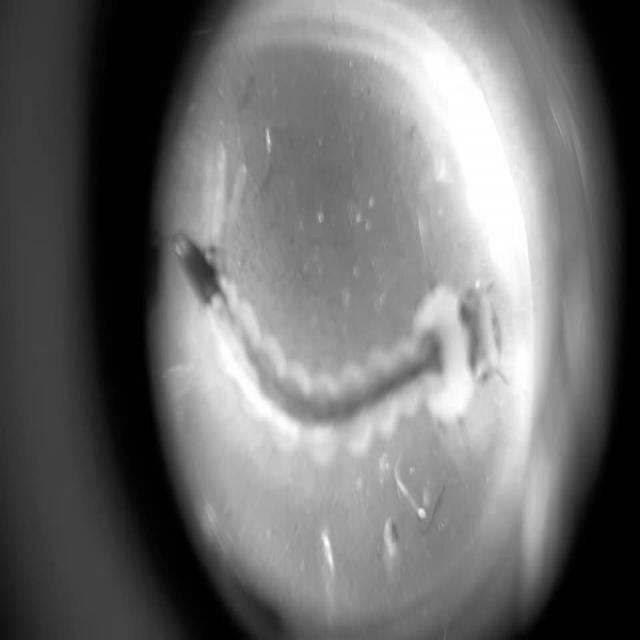larvas: (175, 236, 505, 432)
